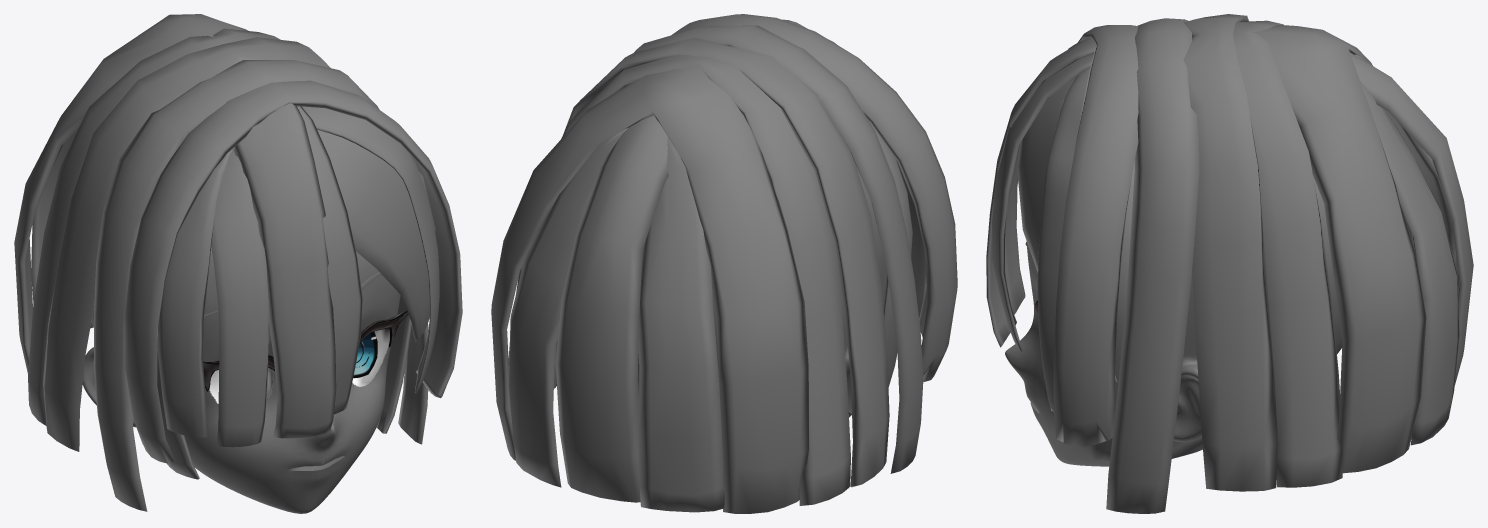
File: Anime Hair 11.fbx
3 views of the same model, side by side, from view 1: azimuth 30°, elevation 25°; view 2: azimuth 150°, elevation 25°; view 3: azimuth 270°, elevation 25° (orthographic). The views are drawn at different scales.
Parts seen in each view (by area): view 1: Front_parts15_37, Front_parts15_40, Front_parts15_43, Front_parts15_45, Front_parts14_78, Front_parts15_42, Front_parts15_44, Front_parts15_41, Front_parts15_46, Front_parts15_38, Front_parts15_47, Front_parts15_48 (+5 smaller); view 2: Front_parts15_38, Front_parts15_22, Front_parts15_27, Front_parts15_45, Front_parts15_46, Front_parts15_40, Front_parts15_37, Front_parts15_39, Front_parts14_78, Front_parts15_42; view 3: Front_parts15_38, Front_parts15_45, Front_parts15_40, Front_parts15_46, Front_parts15_37, Front_parts15_22, Front_parts14_78, Front_parts15_48, Front_parts15_27, Front_parts15_47, Front_parts15_41, Front_parts15_43 (+2 smaller).
Part boxes in pixels (box(x1,y1,x2,y2)): Front_parts15_37: box(125, 80, 462, 463); Front_parts15_40: box(93, 60, 428, 511); Front_parts15_43: box(233, 103, 336, 438); Front_parts15_45: box(42, 37, 330, 451); Front_parts14_78: box(82, 251, 400, 513); Front_parts15_42: box(211, 150, 268, 447); Front_parts15_44: box(157, 147, 234, 437); Front_parts15_41: box(317, 130, 435, 341); Front_parts15_46: box(28, 28, 280, 425); Front_parts15_38: box(14, 14, 248, 373); Front_parts15_47: box(297, 106, 362, 414); Front_parts15_48: box(302, 106, 439, 393); Front_parts15_38: box(491, 64, 808, 513); Front_parts15_22: box(508, 128, 724, 512); Front_parts15_27: box(555, 115, 668, 502); Front_parts15_45: box(554, 37, 889, 487); Front_parts15_46: box(508, 54, 850, 505); Front_parts15_40: box(634, 25, 923, 473); Front_parts15_37: box(671, 14, 957, 381); Front_parts15_39: box(871, 124, 912, 386); Front_parts14_78: box(637, 167, 886, 417); Front_parts15_42: box(897, 161, 926, 317); Front_parts15_38: box(1253, 25, 1426, 473); Front_parts15_45: box(1183, 14, 1277, 491); Front_parts15_40: box(1106, 18, 1199, 513); Front_parts15_46: box(1233, 20, 1343, 487); Front_parts15_37: box(1053, 25, 1138, 446); Front_parts15_22: box(1355, 54, 1459, 445); Front_parts14_78: box(1005, 176, 1342, 466); Front_parts15_48: box(1037, 68, 1090, 411); Front_parts15_27: box(1349, 52, 1473, 385); Front_parts15_47: box(991, 53, 1093, 351); Front_parts15_41: box(1017, 77, 1117, 382); Front_parts15_43: box(986, 37, 1096, 347).
Bounding box in the file's own units: 0.293 × 0.3515 × 0.359.
19 materials, 2 textured.
